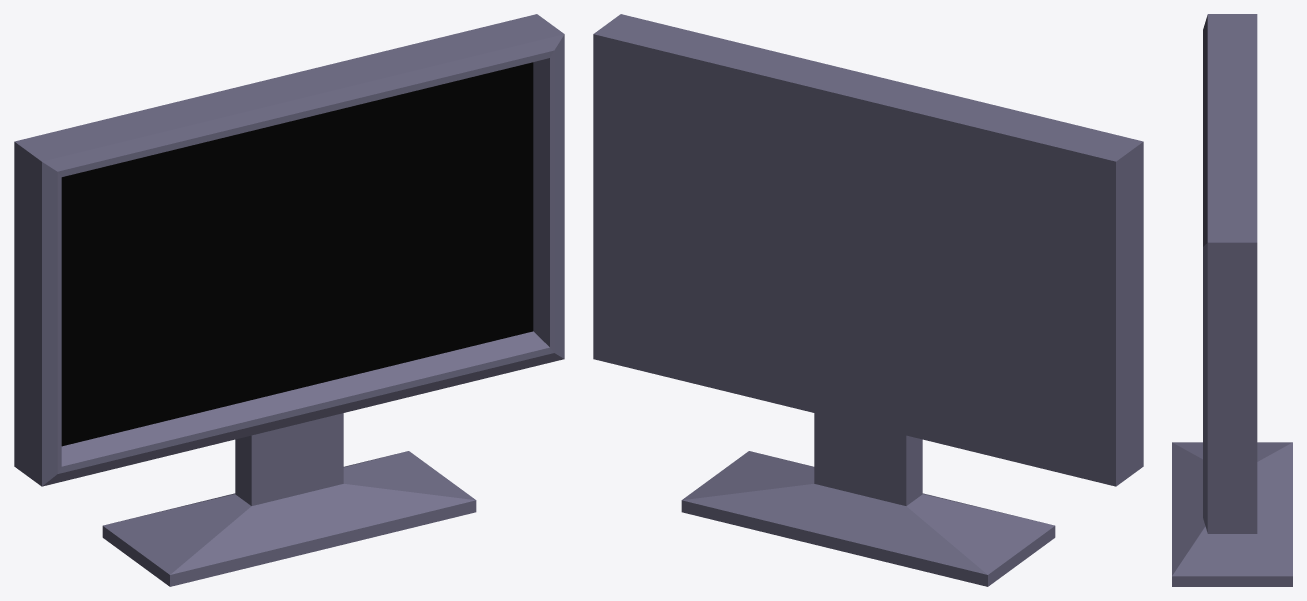
The model's file is computer.fbx.
3 views of the same model, side by side, from view 1: azimuth 30°, elevation 25°; view 2: azimuth 150°, elevation 25°; view 3: azimuth 270°, elevation 25° (orthographic). The views are drawn at different scales.
Parts seen in each view (by area): view 1: Cube; view 2: Cube; view 3: Cube.
Boxes of the visible parts, x1,y1,x2,y2 form: Cube: [14, 14, 564, 586]; Cube: [593, 14, 1143, 586]; Cube: [1172, 14, 1292, 586].
Bounding box in the file's own units: 392 × 313 × 87.62.
